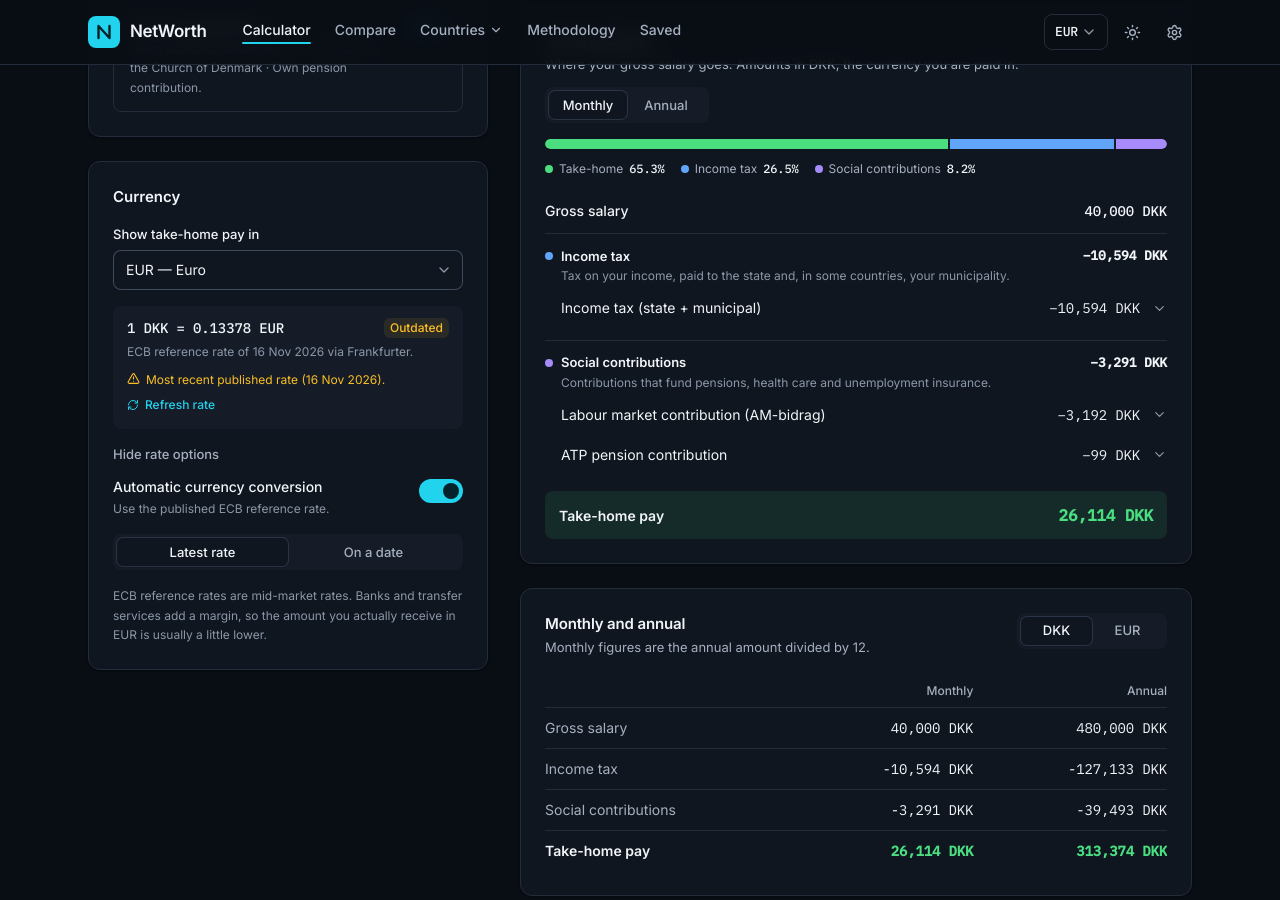
Test case: calculator › a manual exchange rate replaces the published rate
The width and height of the screenshot is (1280, 900).
(page scrolled)
Click the switch named "Automatic currency conversion". click: (441, 491)
box: [419,479,463,503]
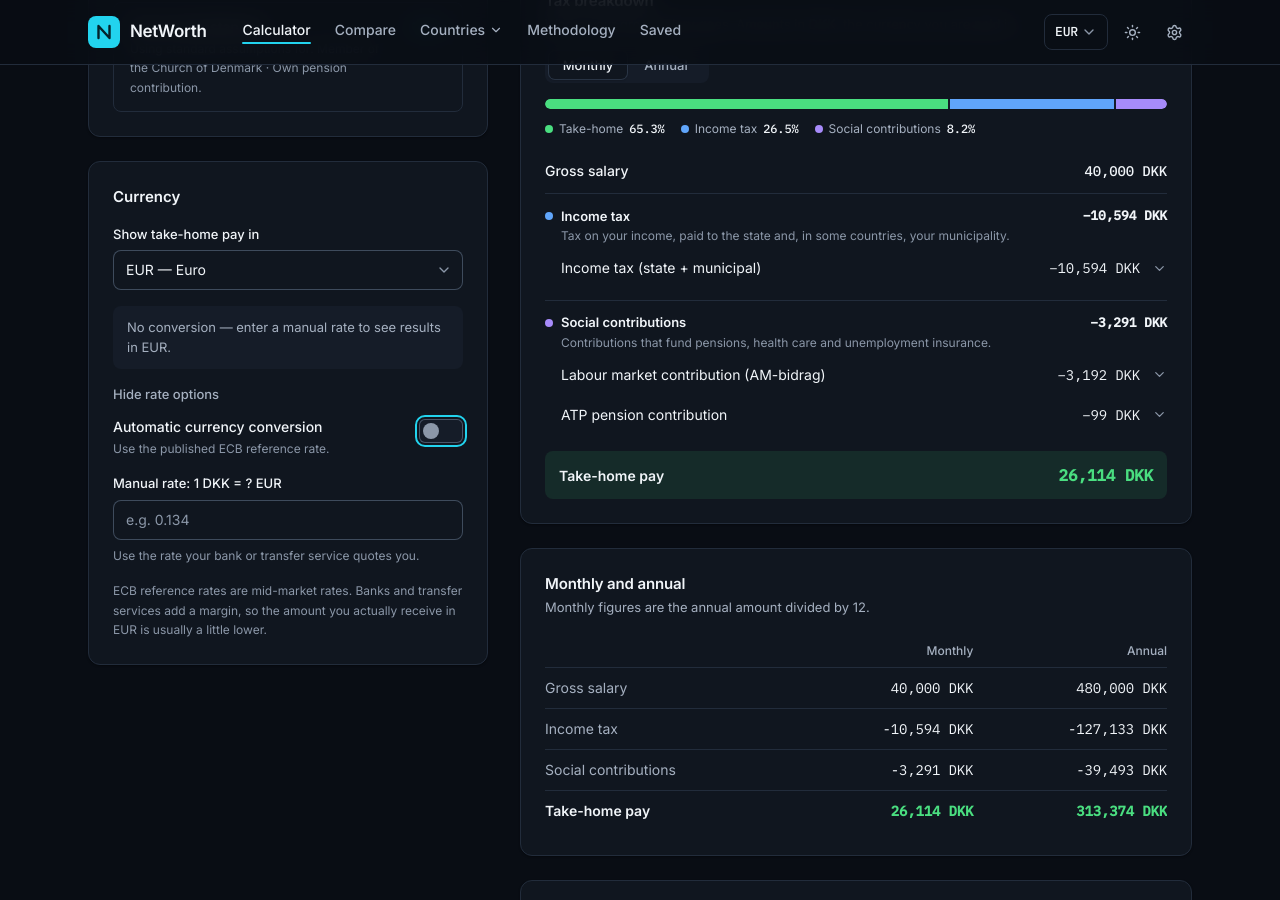
Type "0.134" into the number field labelled "Manual rate: 1 DKK = ? EUR". click: (288, 520)
box: [113,500,463,540]
(page scrolled)
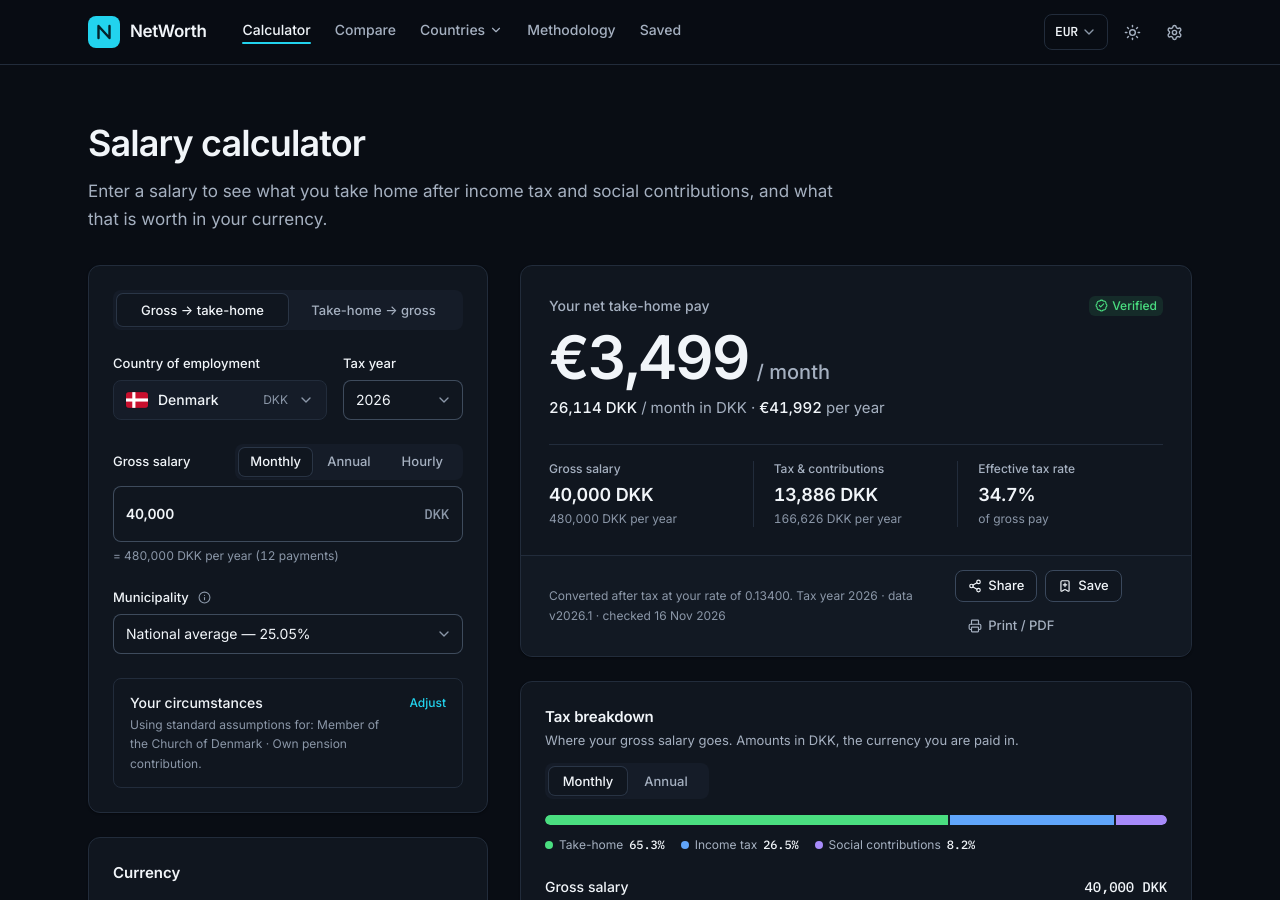
Expected: the element with test id "hero-amount" shows "€3,499", [549,321,748,393]
